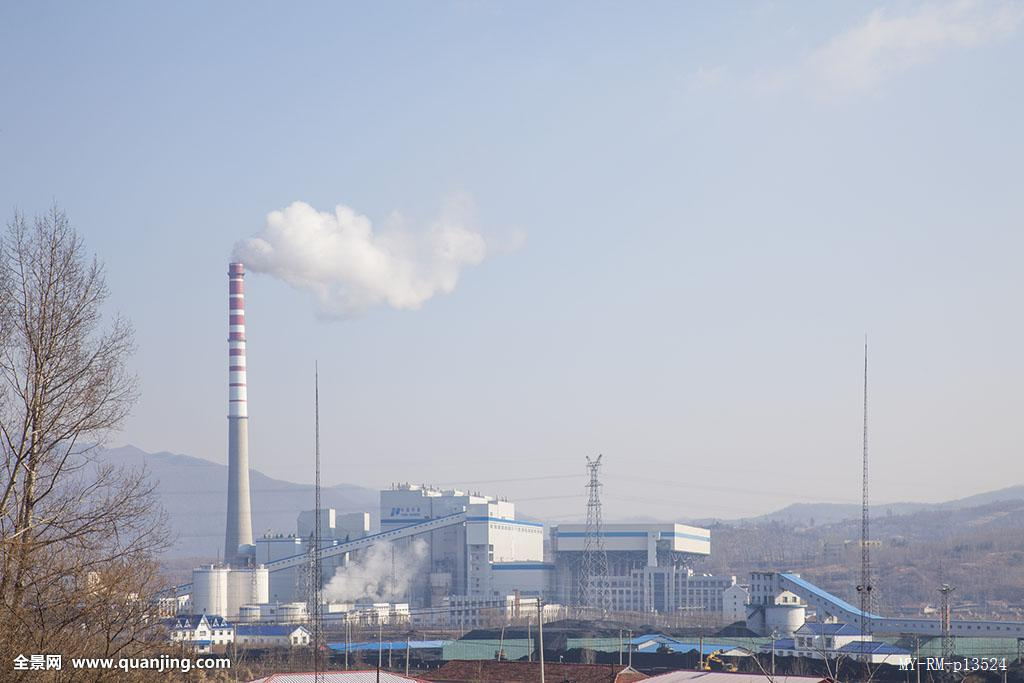dust: (223, 186, 458, 312)
